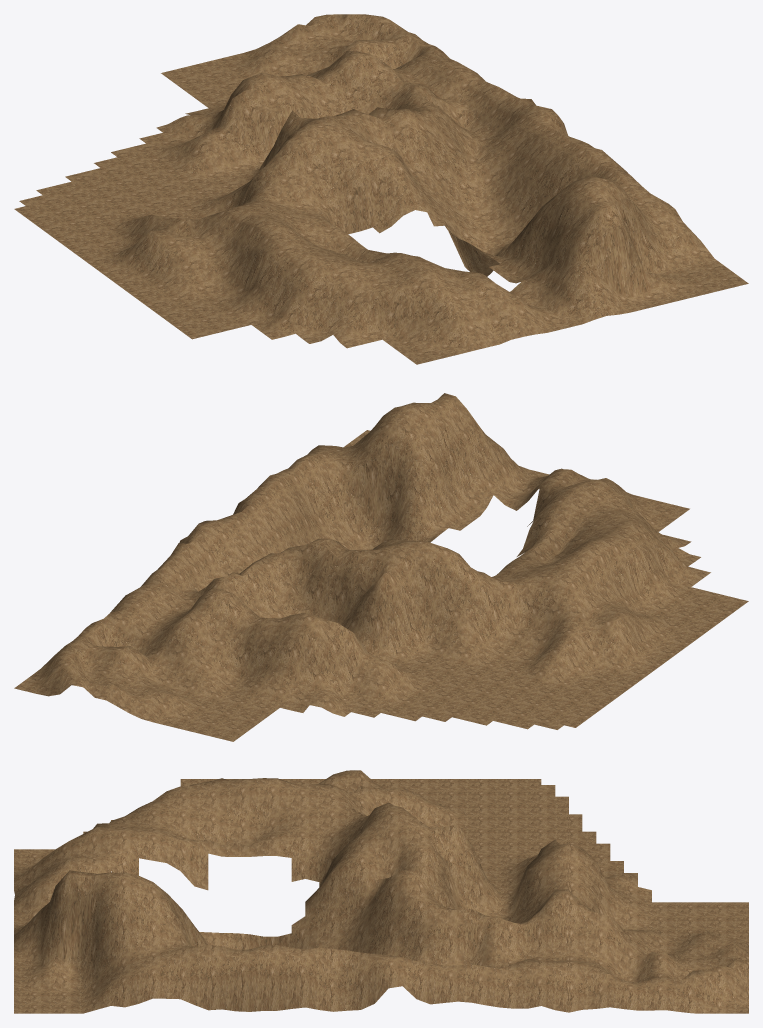
Rendered from dcfx2_dimian_02.FBX.
The picture shows the model from 3 angles, top to bottom: view 1: azimuth 30°, elevation 25°; view 2: azimuth 150°, elevation 25°; view 3: azimuth 270°, elevation 25°; orthographic projection. The views are drawn at different scales.
Parts seen in each view (by area): view 1: dcfx2_dimian_02; view 2: dcfx2_dimian_02; view 3: dcfx2_dimian_02.
Boxes of the visible parts, x1,y1,x2,y2 form: dcfx2_dimian_02: [14, 14, 748, 364]; dcfx2_dimian_02: [14, 393, 748, 741]; dcfx2_dimian_02: [14, 770, 748, 1013].
Bounding box in the file's own units: 10000 × 2849 × 13240.
